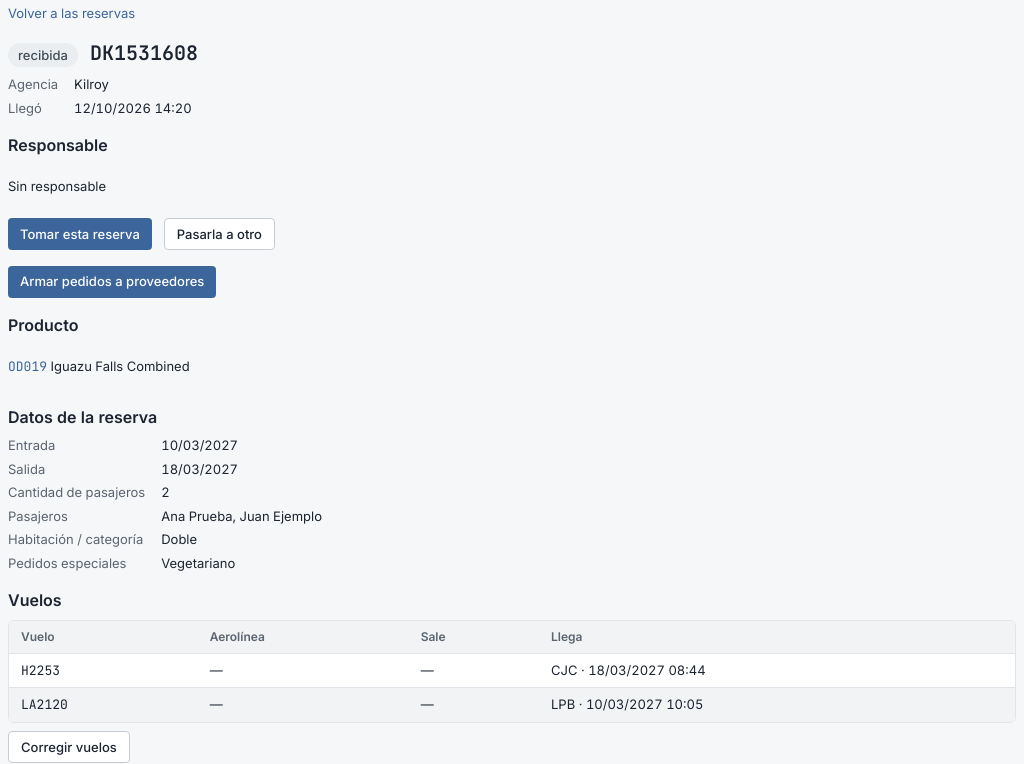
it: M3-07 fila 1 — 'Corregir vuelos' en el detalle › cada vuelo como llegada o salida; muestra lo que dice el mail sobre vuelos
This screenshot has width=1024, height=764.
Click the button "Corregir vuelos".
click(69, 747)  # box [8,731,130,763]
(page scrolled)
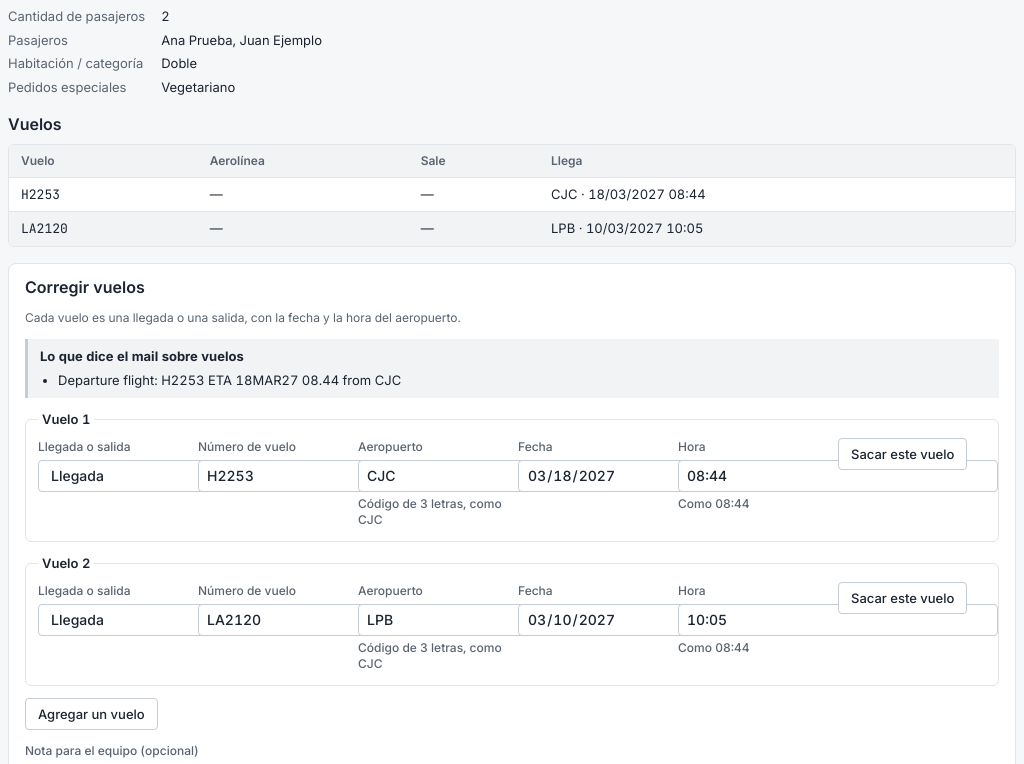
expect the list item "Departure flight: H2253 ETA 18MAR27 08.44 from CJC" is shown: met, box [58,372,401,388]
